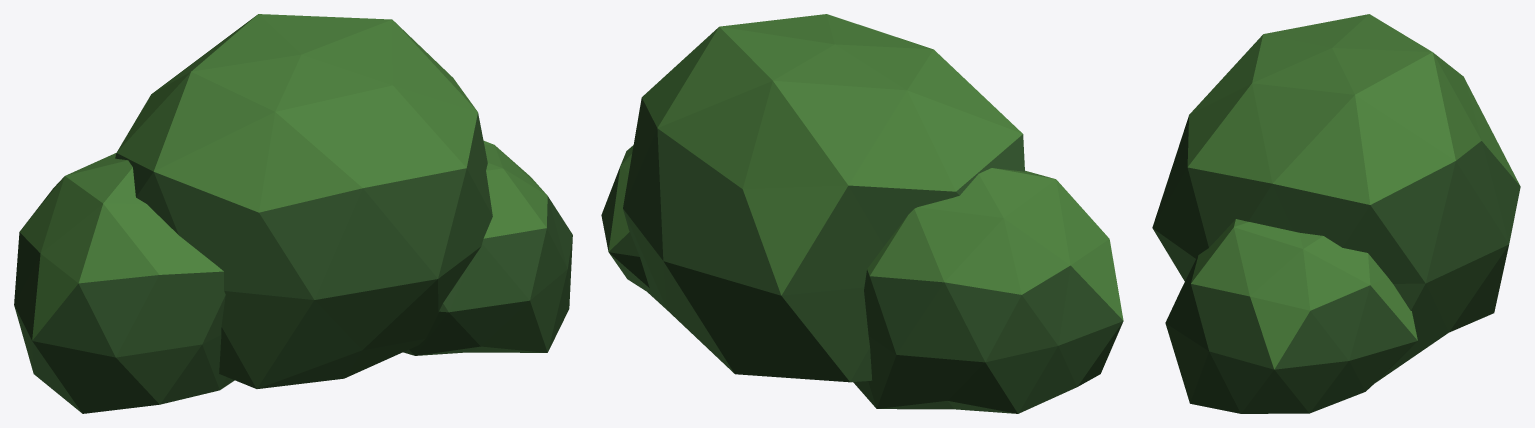
The model's file is World_Bush.fbx.
3 renders of one model, left to right at view 1: azimuth 30°, elevation 25°; view 2: azimuth 150°, elevation 25°; view 3: azimuth 270°, elevation 25°, orthographic. The views are drawn at different scales.
Visible parts, largest first — view 1: LeavesDark, LeavesLight; view 2: LeavesLight, LeavesDark; view 3: LeavesDark, LeavesLight.
Part boxes in pixels (bbox=[...]): LeavesDark: bbox=[14, 113, 572, 413]; LeavesLight: bbox=[19, 14, 547, 340]; LeavesLight: bbox=[608, 14, 1123, 320]; LeavesDark: bbox=[601, 98, 1123, 413]; LeavesDark: bbox=[1152, 116, 1520, 413]; LeavesLight: bbox=[1187, 14, 1519, 369].
Bounding box in the file's own units: 471 × 249 × 301.
